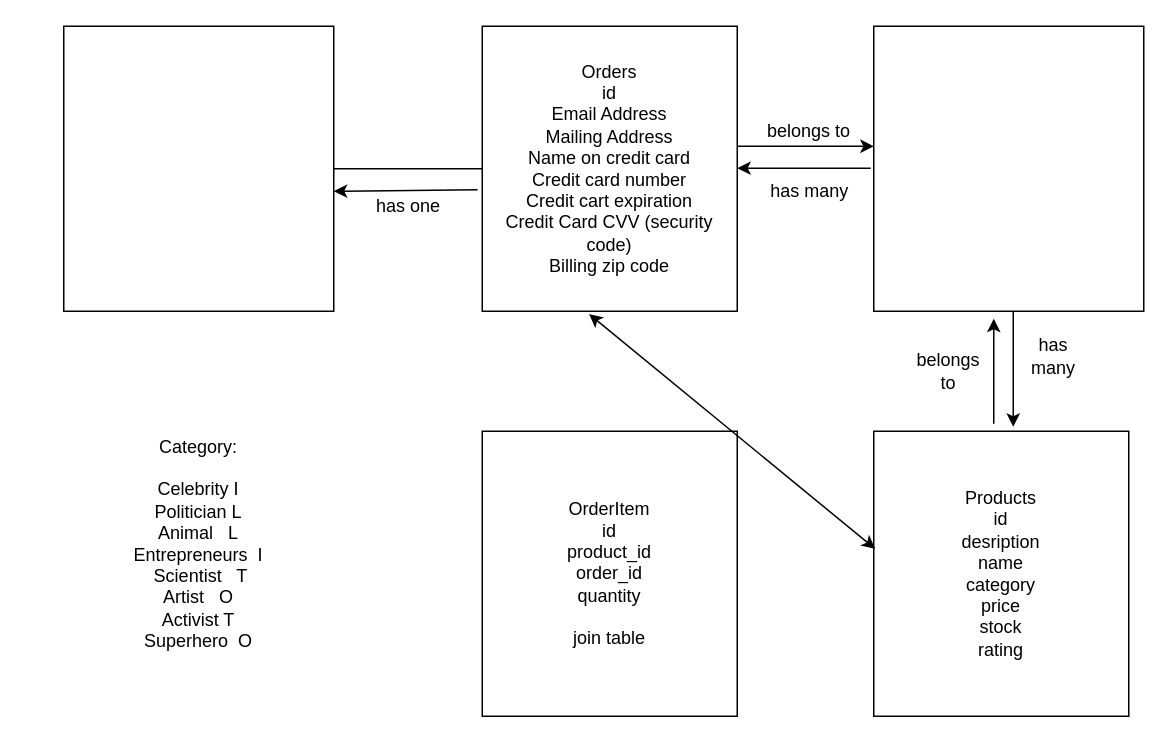
The diagram is 1170 pixels wide and 743 high, and some of its shapes have lost their labels. Here are the shapes that lost their labels. From the top down, the centre of each, then its label:
At (x=198, y=168): "Users ???".
At (x=1008, y=168): "Merchants id username revenue".
